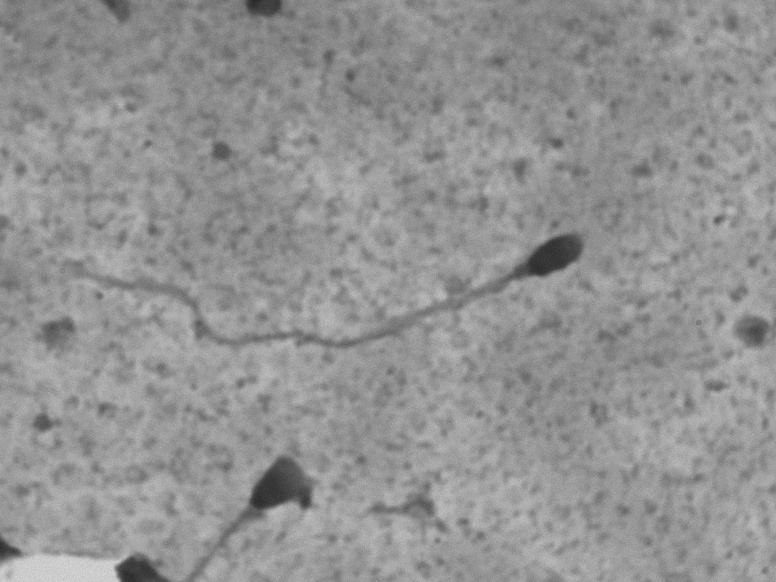Abnormal: (143, 438, 338, 572)
Normal: (49, 188, 603, 365)
